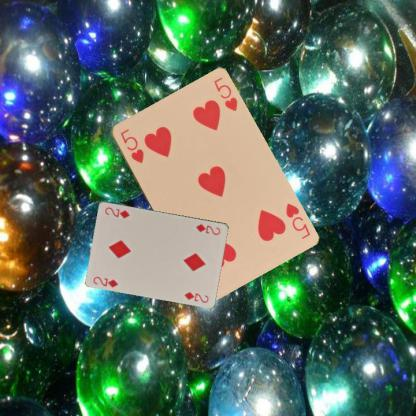2d: (90, 274, 119, 288), (194, 221, 221, 236)
5h: (282, 200, 312, 240), (117, 126, 145, 165)
